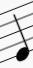note: (7, 5, 31, 62)
